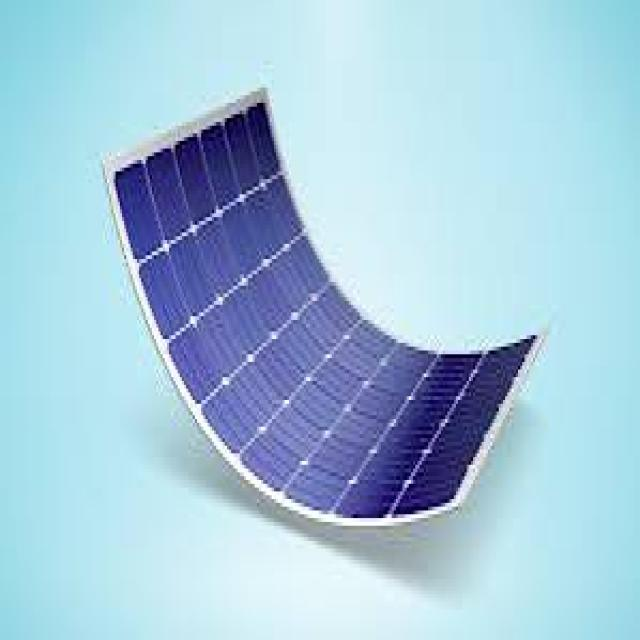Solar: (98, 88, 544, 530)
